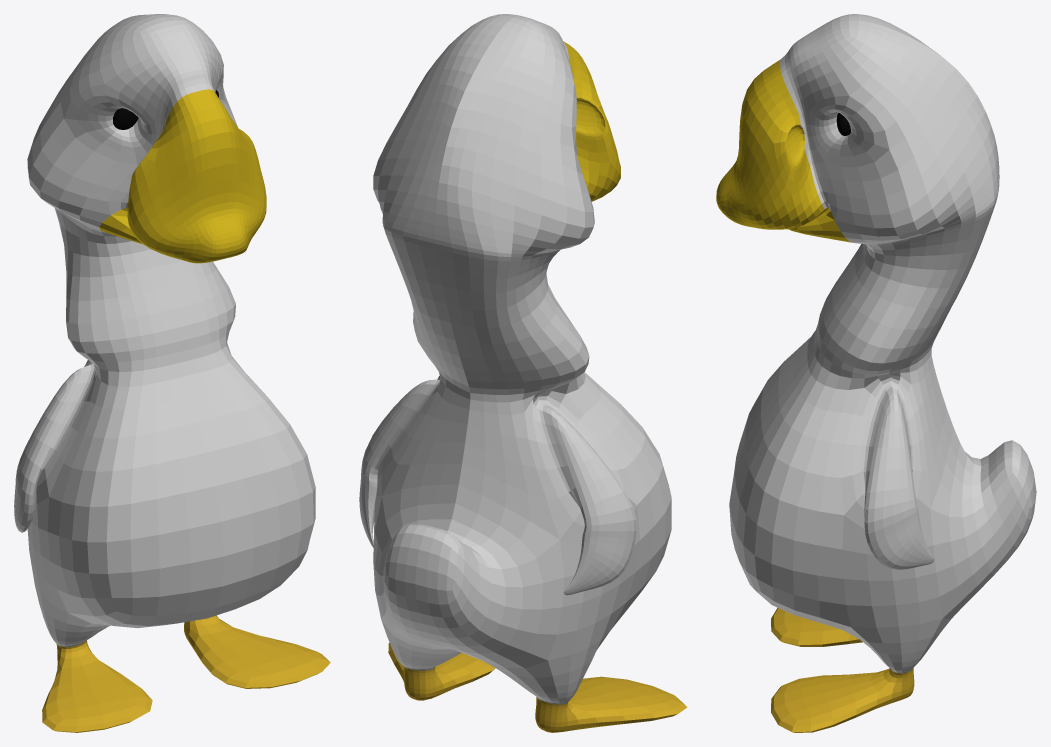
Rendered from duck.obj.
The picture shows the model from 3 angles, left to right: view 1: azimuth 30°, elevation 25°; view 2: azimuth 150°, elevation 25°; view 3: azimuth 270°, elevation 25°; orthographic projection. The views are drawn at different scales.
Visible parts, largest first — view 1: Cube; view 2: Cube; view 3: Cube.
Boxes of the visible parts, x1,y1,x2,y2 form: Cube: [14, 14, 330, 732]; Cube: [359, 14, 687, 732]; Cube: [716, 14, 1036, 732].
Bounding box in the file's own units: 20.34 × 45.83 × 20.43.
